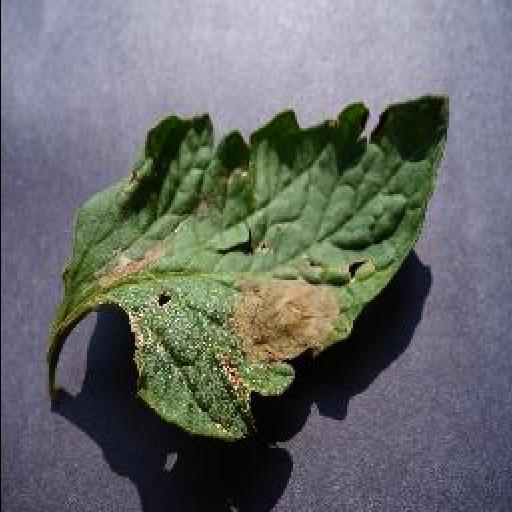disease_tomato: (60, 98, 458, 444)
